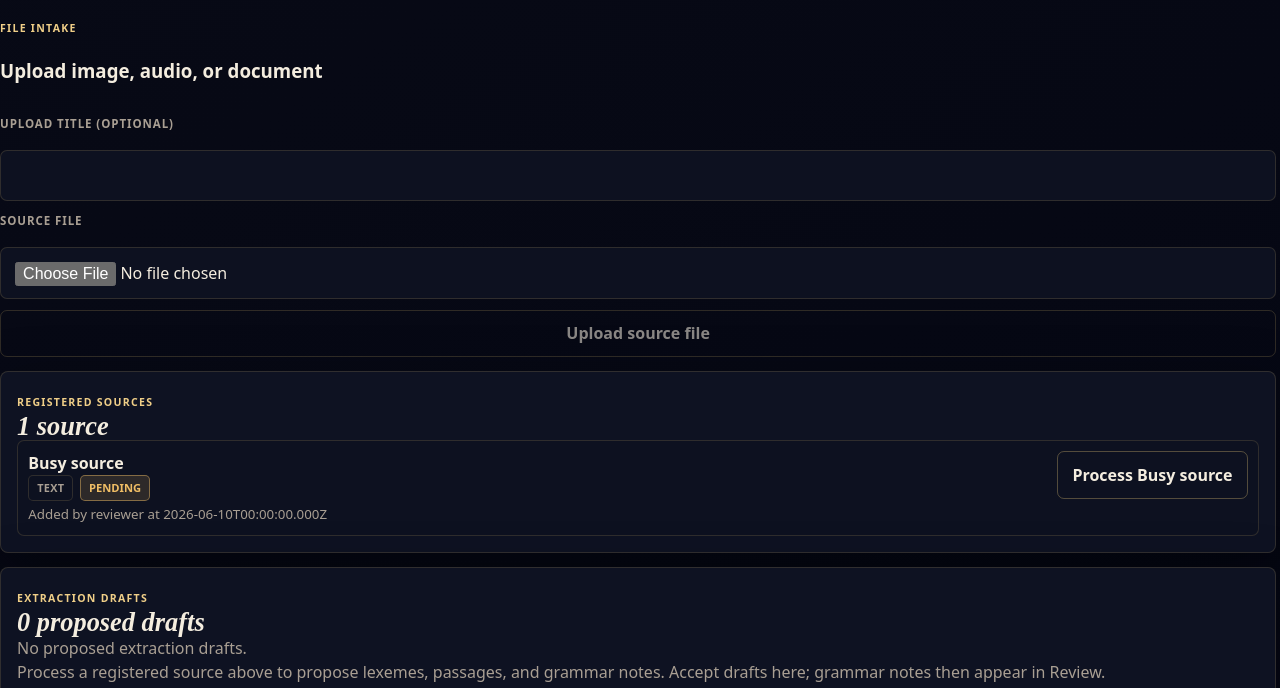
Test: IngestView already-processing conflicts › surfaces the localized already-processing 409 message
(page scrolled)
Step 1. Click the button "Process Busy source" → (1152, 475), box [1057,451,1248,499]
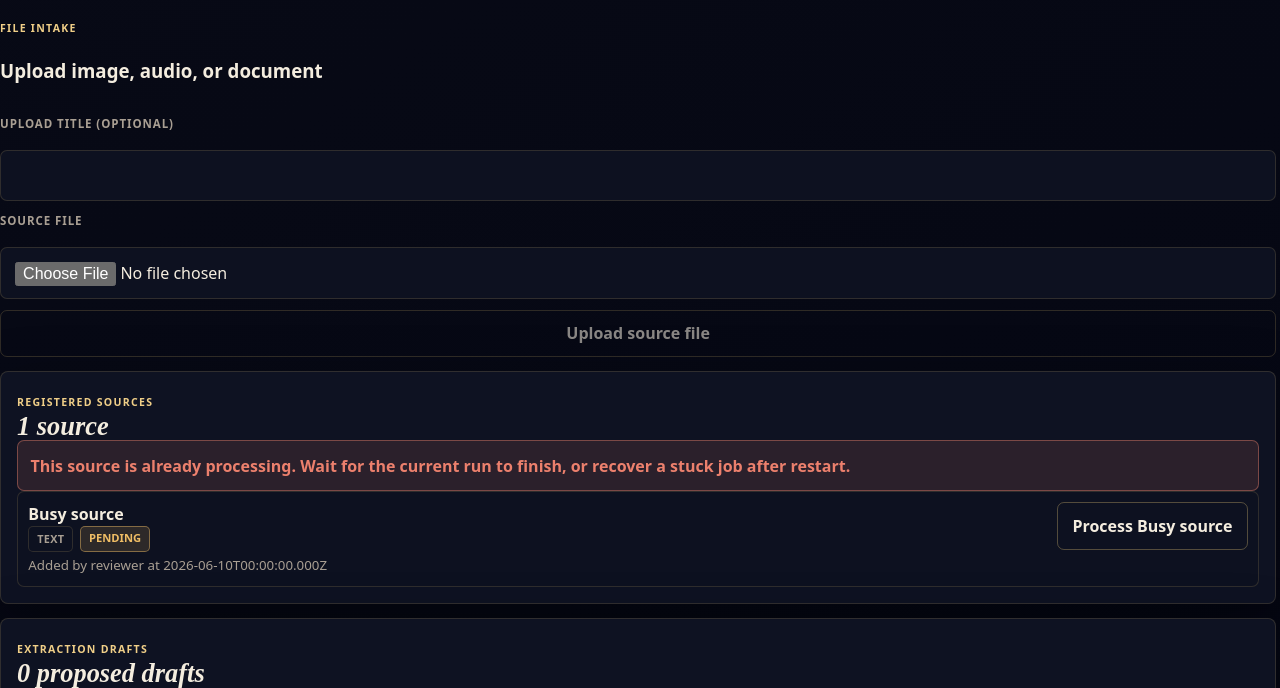
Result: the 1st message shows "This source is already processing. Wait for the current run to finish, or recover a stuck job after restart." at [30,454,850,476]
